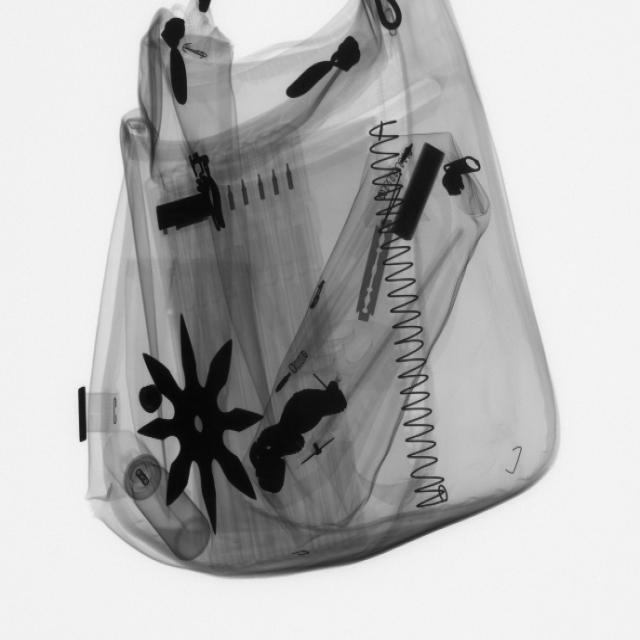BLADE: (356, 208, 397, 327)
SHURIKEN: (136, 311, 262, 536)
